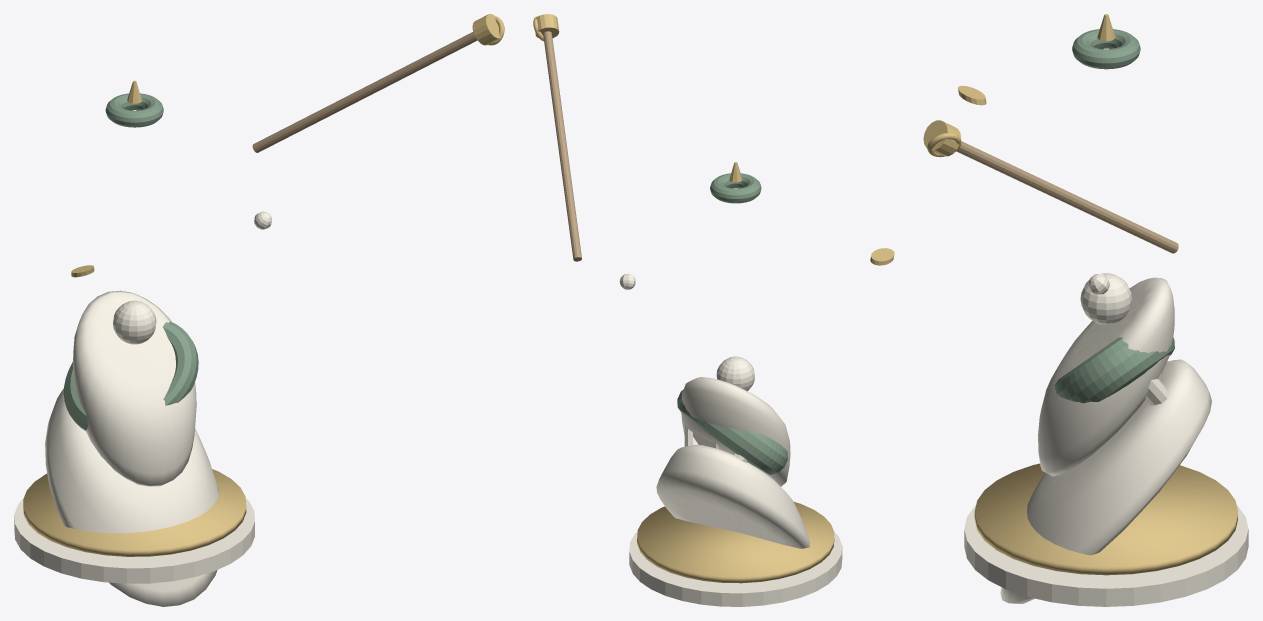
The picture shows the model from 3 angles, left to right: view 1: azimuth 30°, elevation 25°; view 2: azimuth 150°, elevation 25°; view 3: azimuth 270°, elevation 25°; orthographic projection. The views are drawn at different scales.
Visible parts, largest first — view 1: Acharya_Torso, Acharya_Dhoti, Plinth_GoldRim, Plinth_Stone, Acharya_Staff, Fracture_Shawl_Drape, Acharya_Head, Acharya_Turban, Fracture_Staff_LotusCap; view 2: Acharya_Dhoti, Plinth_GoldRim, Plinth_Stone, Acharya_Torso, Fracture_Shawl_Drape, Acharya_Staff, Acharya_Turban, Acharya_Head; view 3: Acharya_Dhoti, Plinth_GoldRim, Acharya_Torso, Plinth_Stone, Fracture_Shawl_Drape, Acharya_Staff, Acharya_Turban, Acharya_Head, Fracture_Staff_LotusCap, Acharya_RightArm.
Boxes of the visible parts, left/top/right/bottom form: Acharya_Torso: left=73, top=290, right=196, bottom=486; Acharya_Dhoti: left=45, top=388, right=218, bottom=606; Plinth_GoldRim: left=23, top=469, right=246, bottom=556; Plinth_Stone: left=14, top=498, right=254, bottom=583; Acharya_Staff: left=252, top=32, right=477, bottom=152; Fracture_Shawl_Drape: left=63, top=321, right=198, bottom=430; Acharya_Head: left=113, top=300, right=156, bottom=344; Acharya_Turban: left=105, top=93, right=163, bottom=127; Fracture_Staff_LotusCap: left=472, top=14, right=500, bottom=45; Acharya_Dhoti: left=656, top=445, right=809, bottom=548; Plinth_GoldRim: left=637, top=502, right=834, bottom=583; Plinth_Stone: left=629, top=531, right=842, bottom=606; Acharya_Torso: left=681, top=377, right=790, bottom=486; Fracture_Shawl_Drape: left=677, top=389, right=787, bottom=474; Acharya_Staff: left=543, top=31, right=581, bottom=261; Acharya_Turban: left=710, top=173, right=761, bottom=203; Acharya_Head: left=716, top=356, right=754, bottom=391; Acharya_Dhoti: left=1000, top=359, right=1211, bottom=603; Plinth_GoldRim: left=974, top=463, right=1237, bottom=575; Acharya_Torso: left=1038, top=277, right=1174, bottom=476; Plinth_Stone: left=964, top=505, right=1248, bottom=606; Fracture_Shawl_Drape: left=1054, top=337, right=1174, bottom=403; Acharya_Staff: left=956, top=141, right=1178, bottom=253; Acharya_Turban: left=1072, top=29, right=1140, bottom=69; Acharya_Head: left=1080, top=273, right=1132, bottom=324; Fracture_Staff_LotusCap: left=923, top=120, right=960, bottom=156; Acharya_RightArm: left=1145, top=378, right=1169, bottom=405.
Size of the model in its own units: 1.36 by 1.68 by 0.7776.
